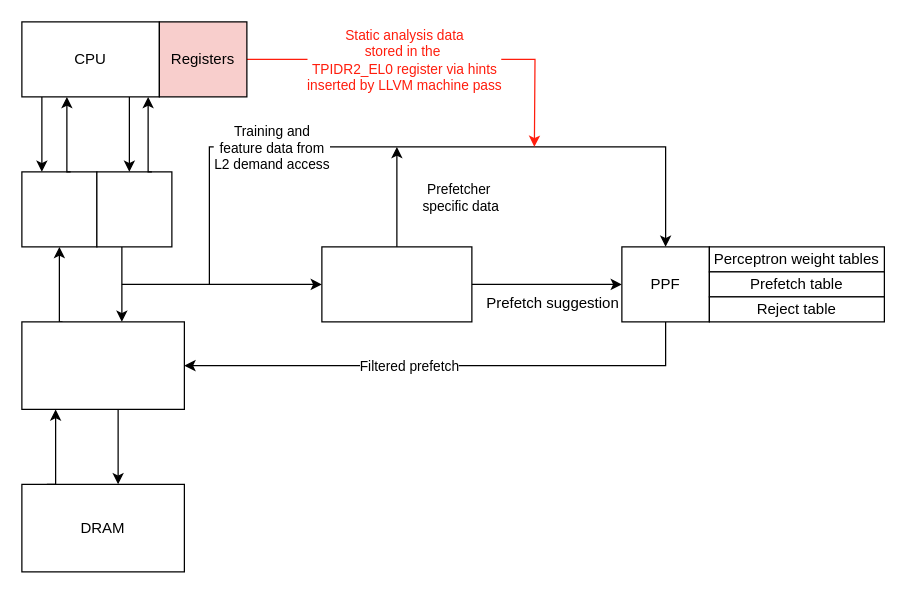
The diagram is 906 pixels wide and 594 high, and some of its shapes have lost their labels. The centre of each missing label's shape, as x and y in pixels:
"L1D" belongs at (x=59, y=209).
"L1I" belongs at (x=134, y=209).
"L2" belongs at (x=102, y=365).
"SPP prefetcher" belongs at (x=396, y=284).
